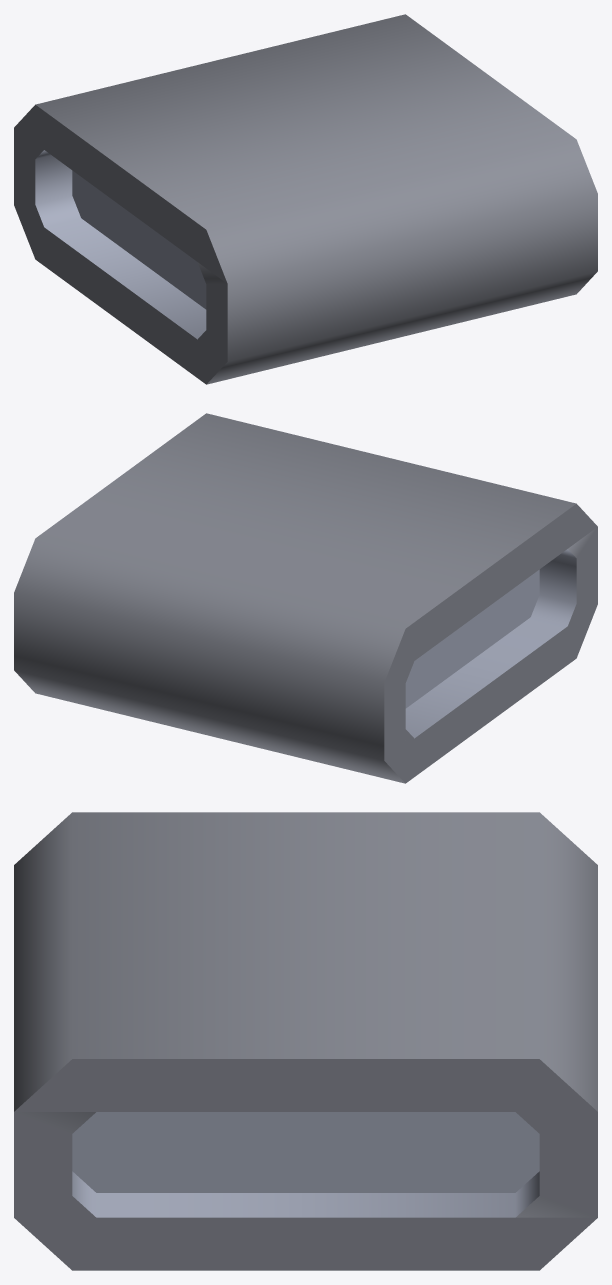
The model's file is conveyor.fbx.
3 views of the same model, one above another, from view 1: azimuth 30°, elevation 25°; view 2: azimuth 150°, elevation 25°; view 3: azimuth 270°, elevation 25° (orthographic). The views are drawn at different scales.
Parts seen in each view (by area): view 1: conveyor; view 2: conveyor; view 3: conveyor.
Boxes of the visible parts, x1,y1,x2,y2 form: conveyor: (14, 14, 597, 384); conveyor: (14, 413, 597, 783); conveyor: (14, 812, 597, 1270).
Size of the model in its own units: 100 by 40 by 100.
